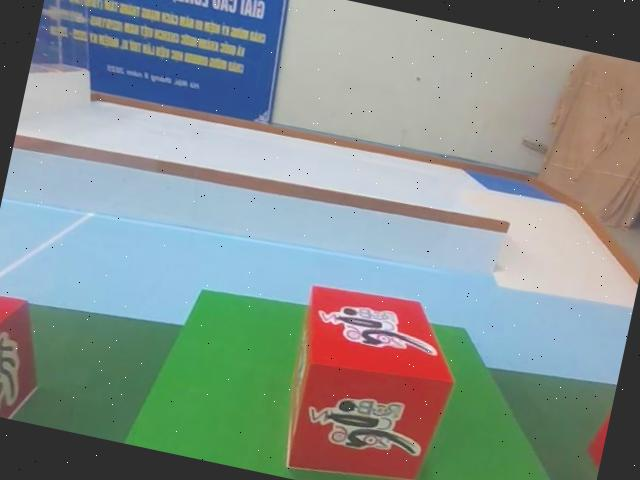R1: (271, 273, 471, 480)
R2 Fake: (0, 286, 61, 425)
